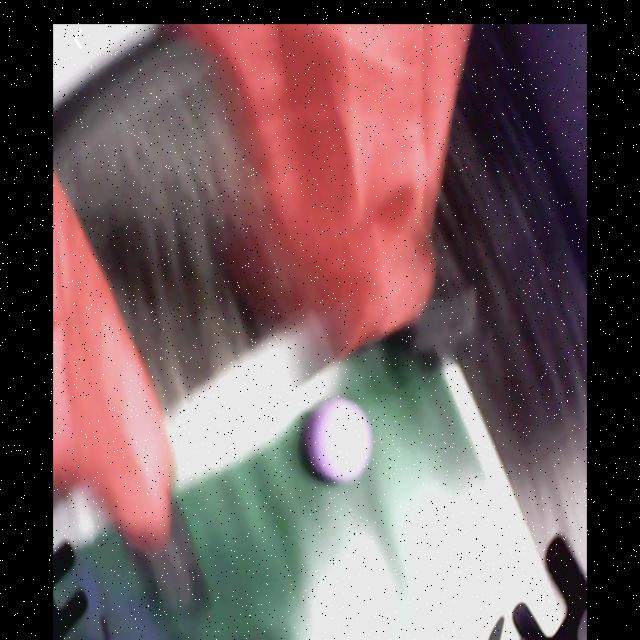ball: (307, 401, 373, 482)
